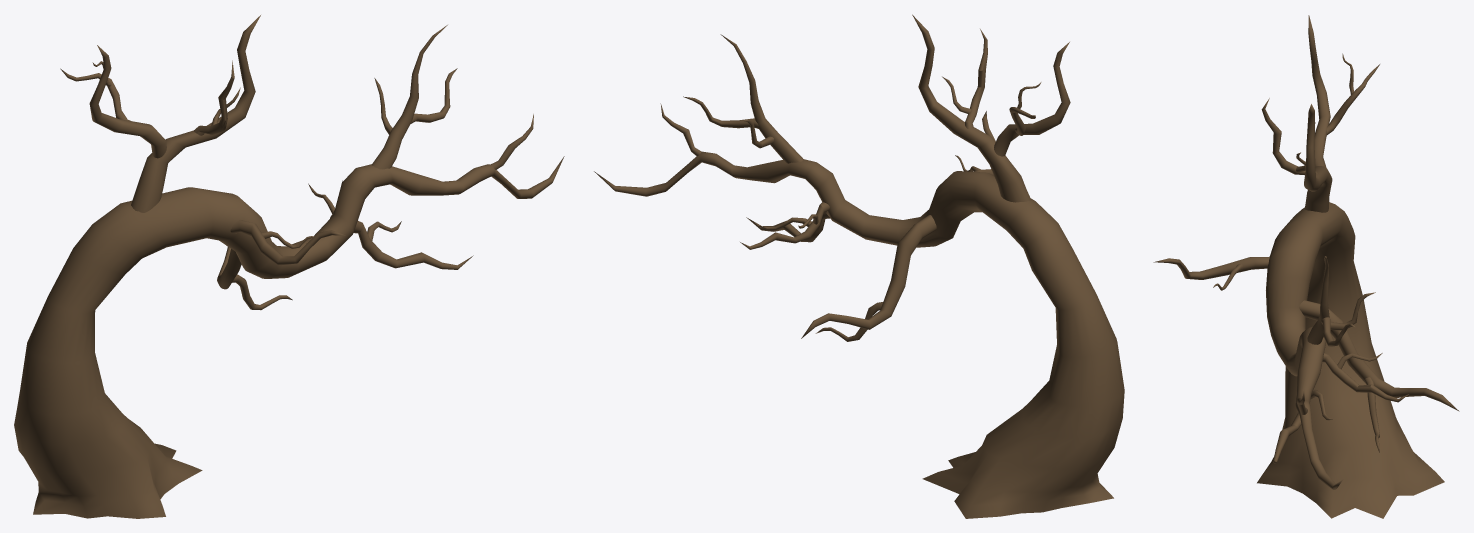
File: tree.glb
The picture shows the model from 3 angles, left to right: view 1: azimuth 30°, elevation 25°; view 2: azimuth 150°, elevation 25°; view 3: azimuth 270°, elevation 25°; orthographic projection. The views are drawn at different scales.
Visible parts, largest first — view 1: Skeletal_Tree_FREE; view 2: Skeletal_Tree_FREE; view 3: Skeletal_Tree_FREE.
Part boxes in pixels (x1,y1,x2,y2): Skeletal_Tree_FREE: [14, 15, 564, 518]; Skeletal_Tree_FREE: [594, 14, 1124, 518]; Skeletal_Tree_FREE: [1153, 15, 1459, 518].
Bounding box in the file's own units: 0.2341 × 0.1894 × 0.1172.
